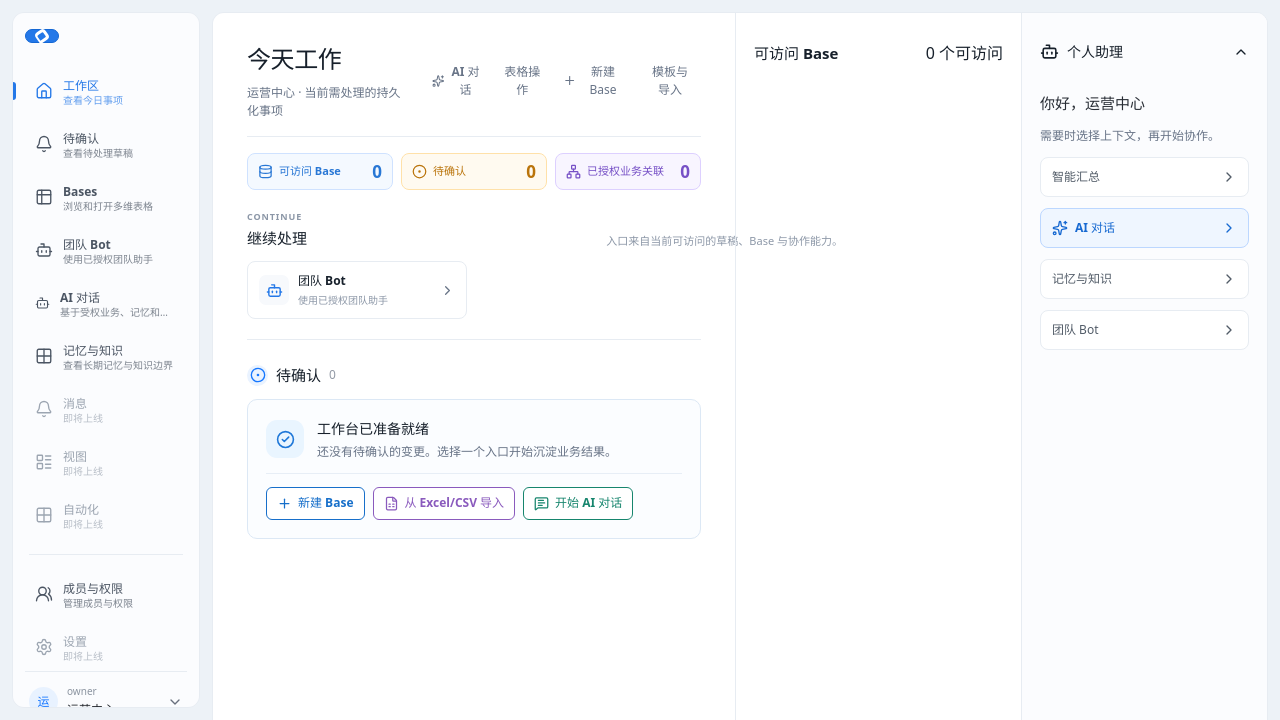
Scenario: opens the Ledgerline collaboration flow and consumes only the safe Stage08 stream result
Step 1. Click the button "AI 对话" below "需要时选择上下文，再开始协作。" → (1144, 228), box [1040, 208, 1249, 248]
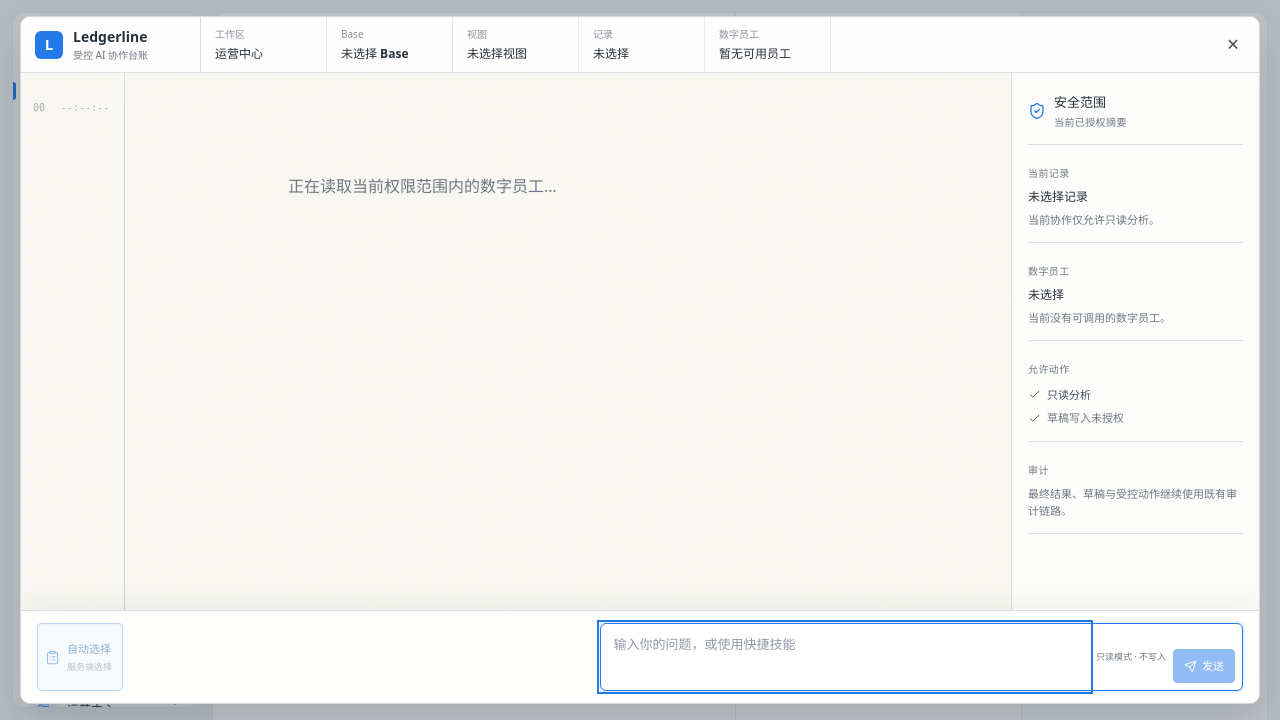
Result: the header with test id "collaboration-context-strip" is shown at [21, 17, 1259, 73]
Step 2. Type "请识别当前材料中的风险，并区分事实与分析。" into the text box named "协作问题" → (845, 657), box [601, 624, 1089, 690]
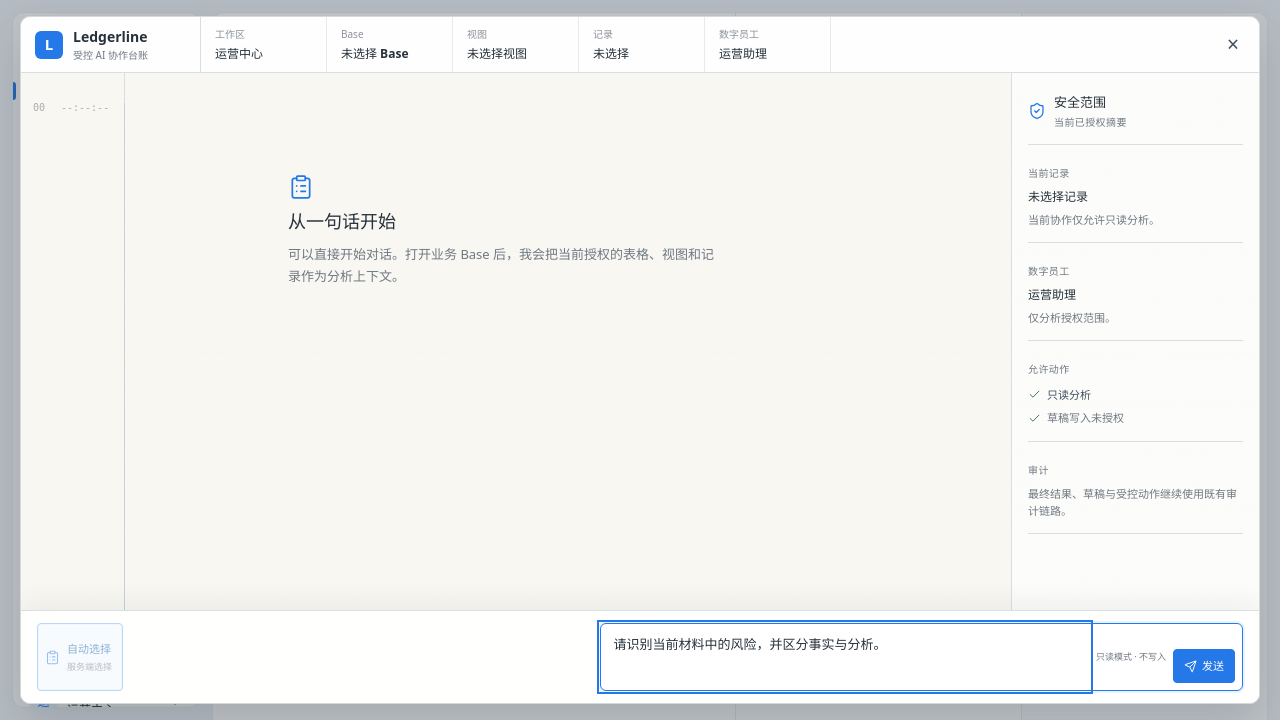
Step 3. Press Enter in the text box named "协作问题", box [601, 624, 1089, 690]
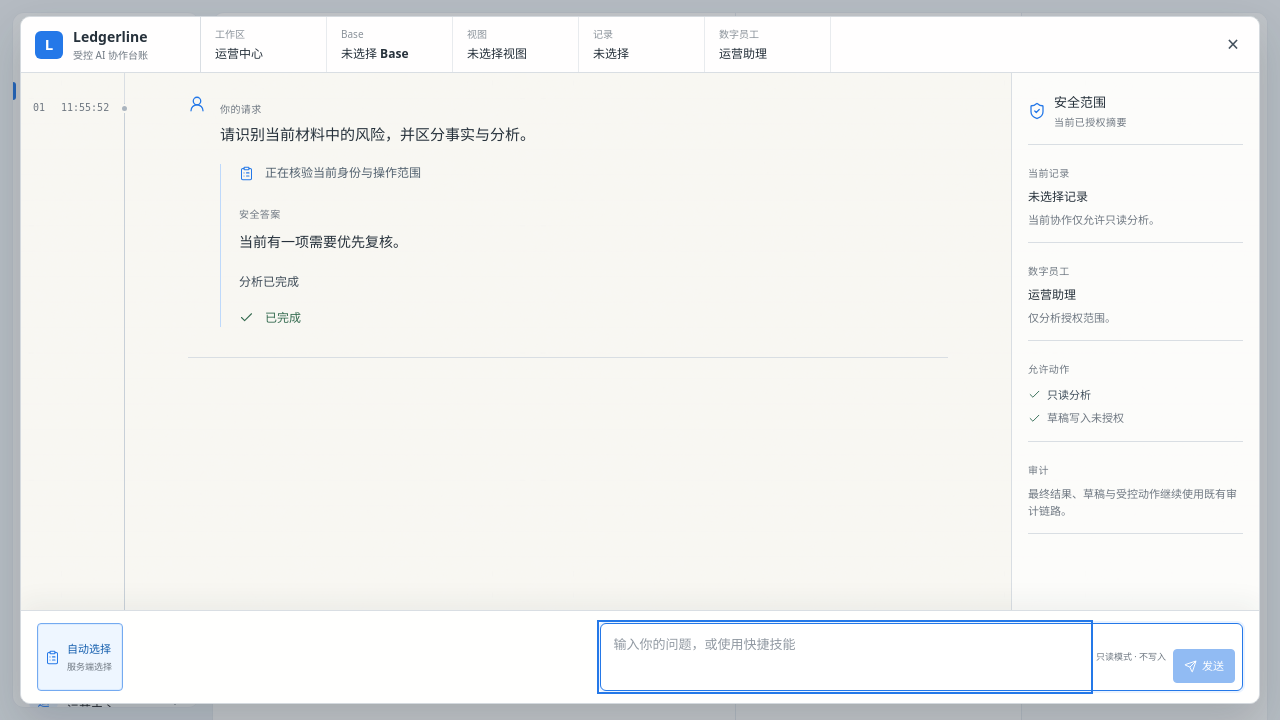
Result: the text "当前有一项需要优先复核。" is shown at [239, 232, 407, 251]
